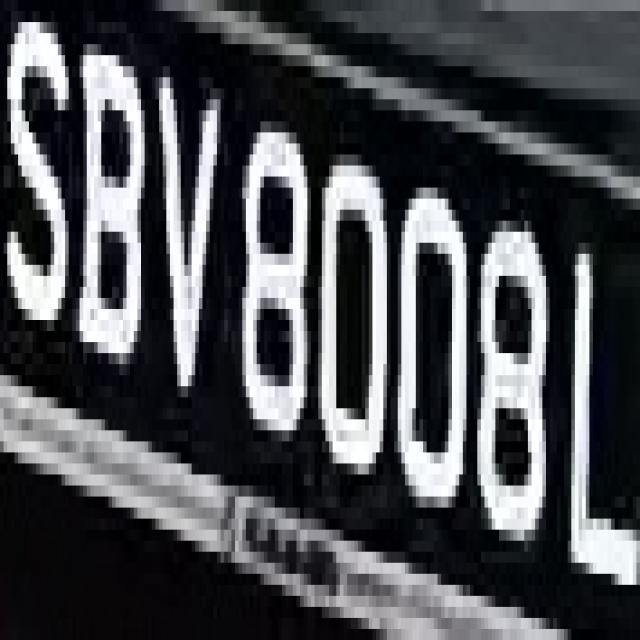0: (387, 177, 474, 562), (314, 143, 387, 530)
8: (224, 89, 315, 464), (474, 188, 550, 552)
B: (65, 22, 152, 441)
L: (546, 221, 633, 607)
S: (4, 22, 68, 342)
V: (148, 67, 224, 430)
